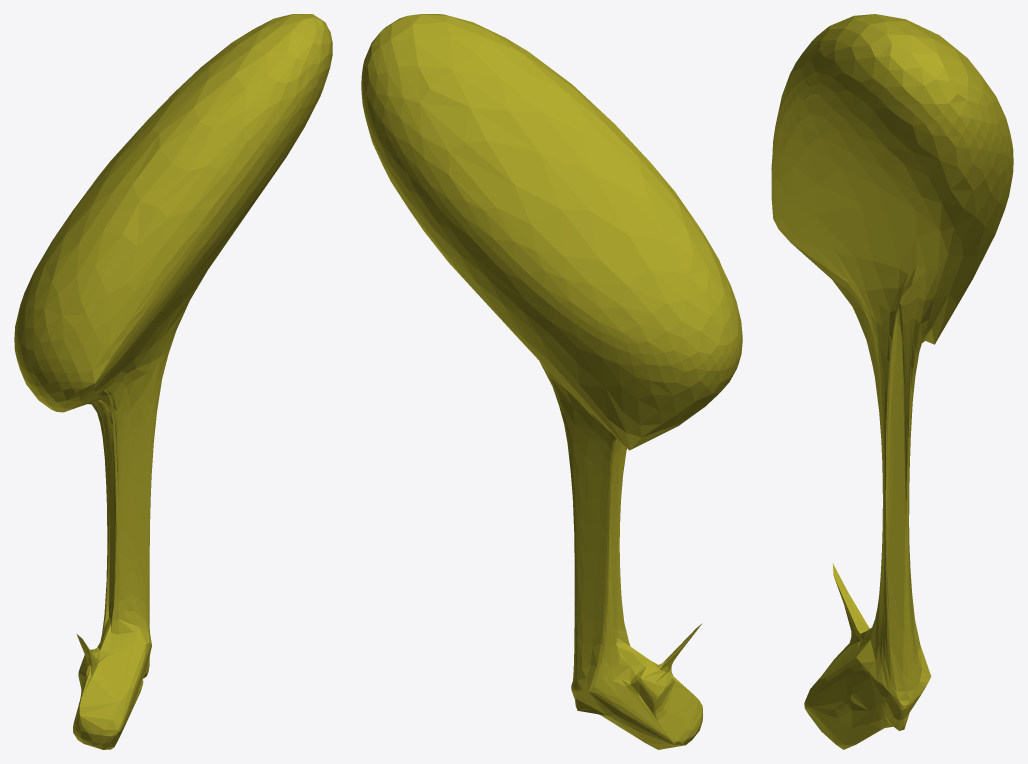
3 renders of one model, left to right at view 1: azimuth 30°, elevation 25°; view 2: azimuth 150°, elevation 25°; view 3: azimuth 270°, elevation 25°, orthographic. The views are drawn at different scales.
Visible parts, largest first — view 1: 277_Cube.1132; view 2: 277_Cube.1132; view 3: 277_Cube.1132.
Part boxes in pixels (x1,y1,x2,y2): 277_Cube.1132: (14,14,332,749); 277_Cube.1132: (361,14,742,749); 277_Cube.1132: (771,14,1013,749).
Bounding box in the file's own units: 8.48 × 16.57 × 4.3.
